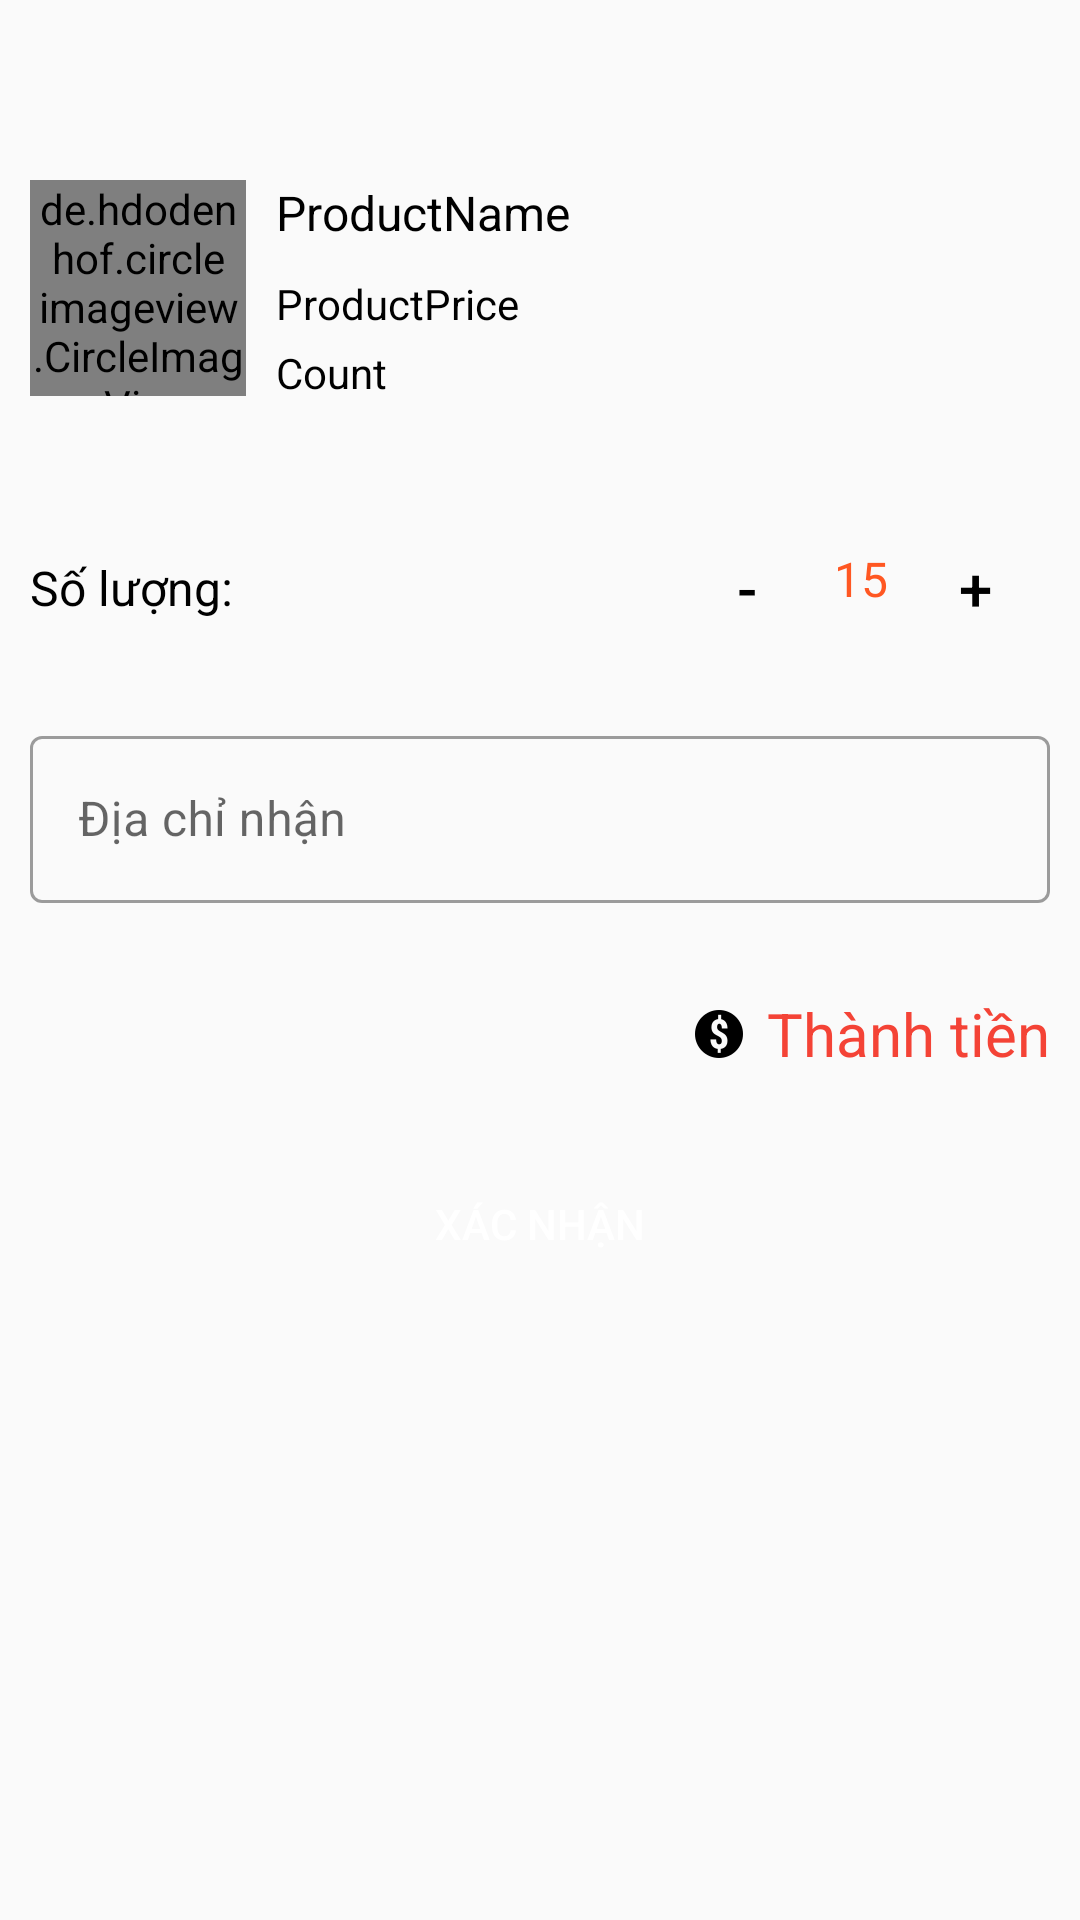

Named icons in this screenshot (1080px x 1920px) and their bounding boxes, detection(x1, y1, x2, y2):
money: detection(695, 1010, 743, 1058)
